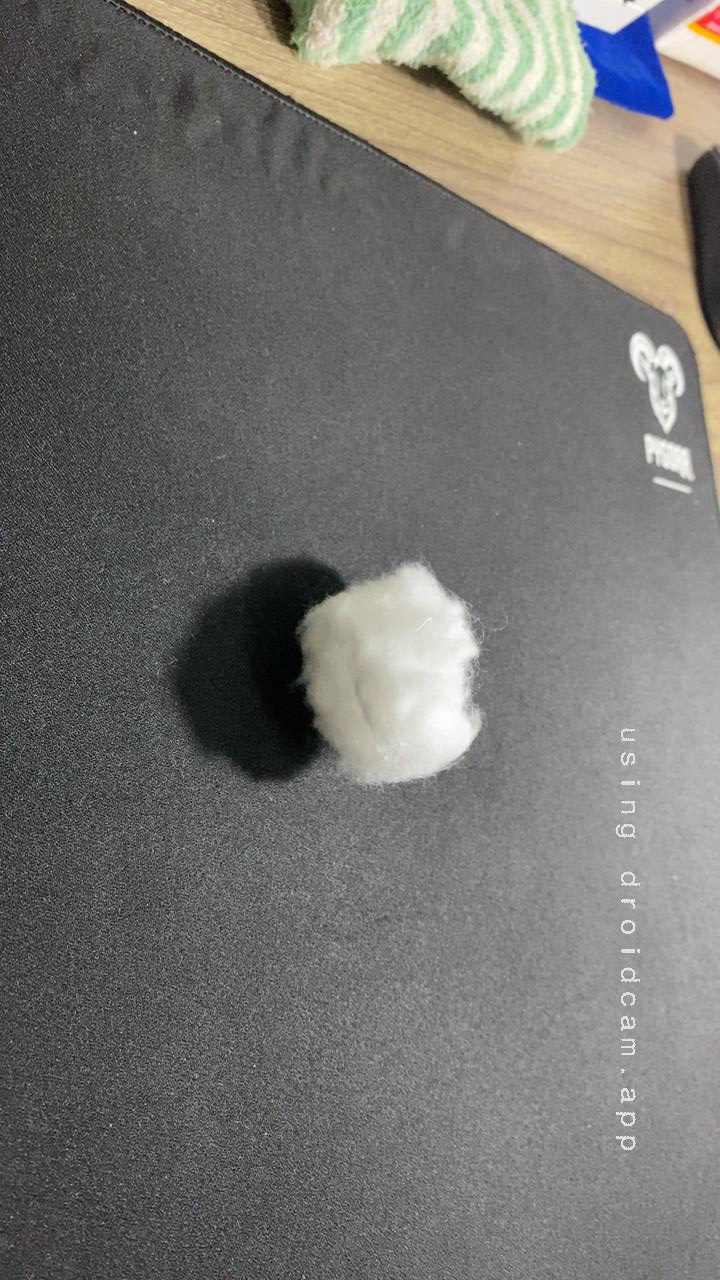cotton: (268, 539, 513, 805)
